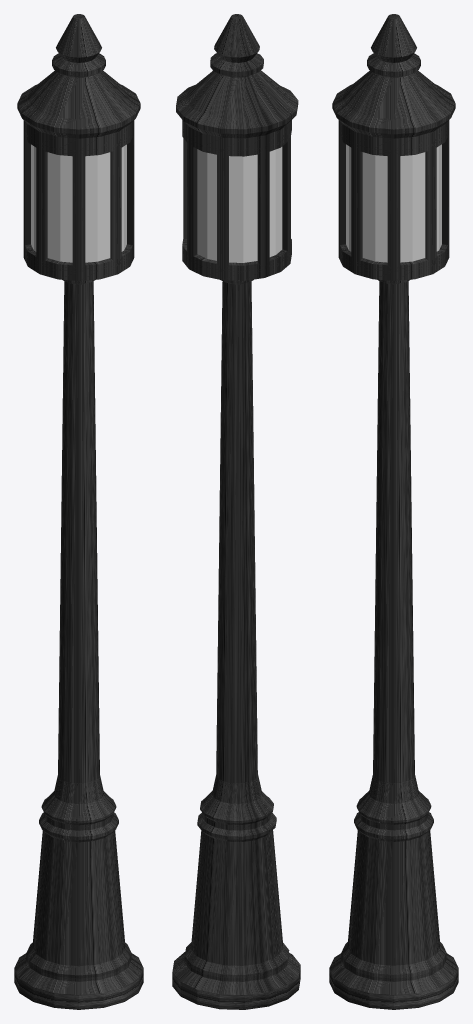
File: Lamp_Straight.fbx
3 views of the same model, side by side, from view 1: azimuth 90°, elevation 25°; view 2: azimuth 210°, elevation 25°; view 3: azimuth 270°, elevation 25° (orthographic).
Parts seen in each view (by area): view 1: Lamp_Straight_LOD0; view 2: Lamp_Straight_LOD0; view 3: Lamp_Straight_LOD0.
Part boxes in pixels (left/top/right/bottom): Lamp_Straight_LOD0: left=14, top=14, right=143, bottom=1009; Lamp_Straight_LOD0: left=172, top=14, right=300, bottom=1009; Lamp_Straight_LOD0: left=329, top=14, right=458, bottom=1009.
Size of what is drawn, in the model's own units: 200 by 1651 by 200.
